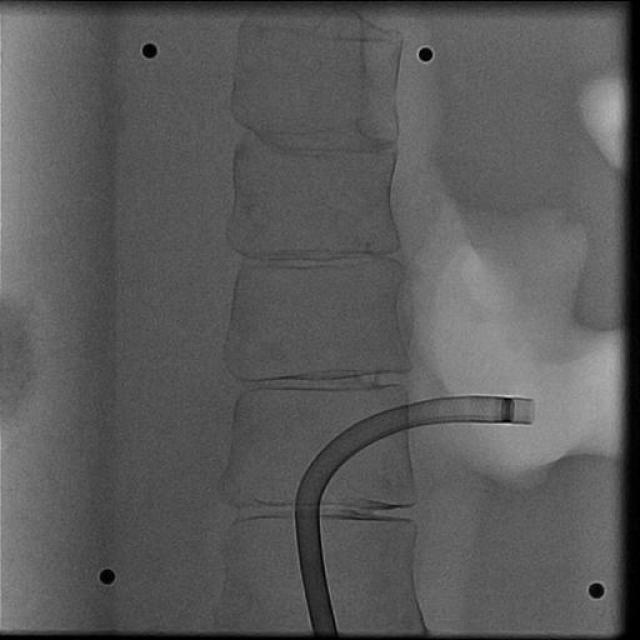bend: (295, 493, 321, 511)
entry: (312, 626, 338, 635)
marker: (500, 398, 516, 423)
tip: (527, 402, 537, 422)
